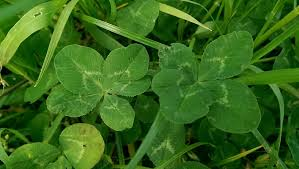4-clover: (158, 38, 262, 134), (48, 43, 148, 135)
